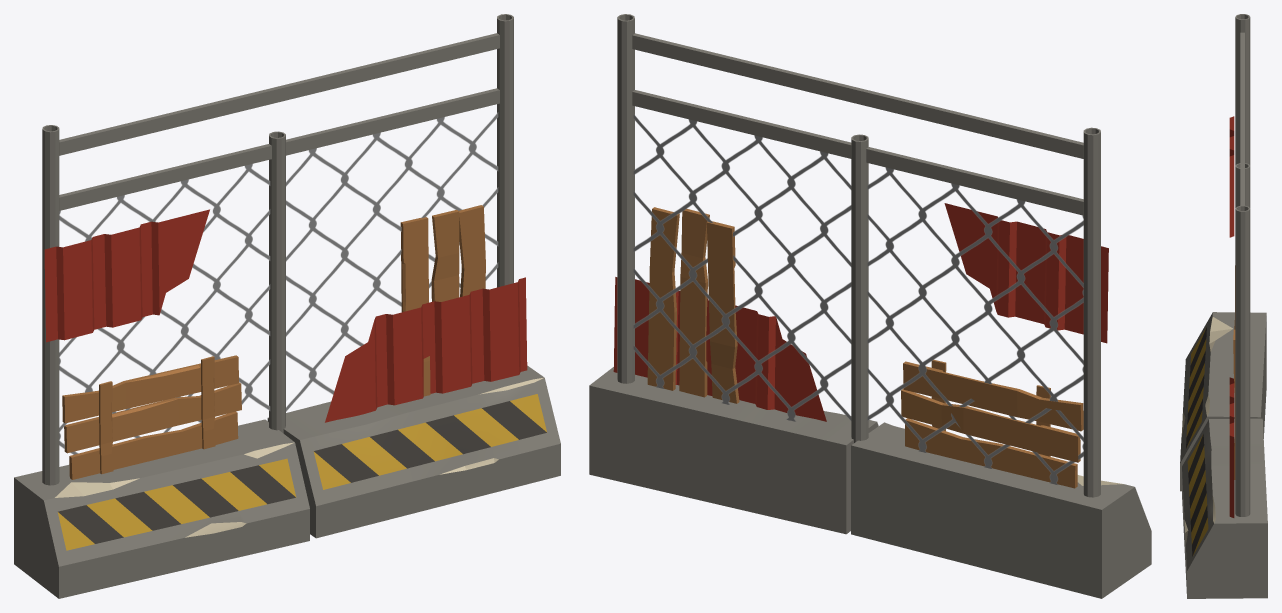
The model's file is cc0-barrier-fixed-lod0.glb.
3 views of the same model, side by side, from view 1: azimuth 30°, elevation 25°; view 2: azimuth 150°, elevation 25°; view 3: azimuth 270°, elevation 25° (orthographic). The views are drawn at different scales.
Visible parts, largest first — view 1: part_0; view 2: part_0; view 3: part_0.
Part boxes in pixels (x1,y1,x2,y2): part_0: (14,14,560,598); part_0: (589,14,1151,598); part_0: (1180,14,1267,598).
Size of the model in its own units: 3.81 by 3.18 by 0.6666.
2 materials, 1 textured.
